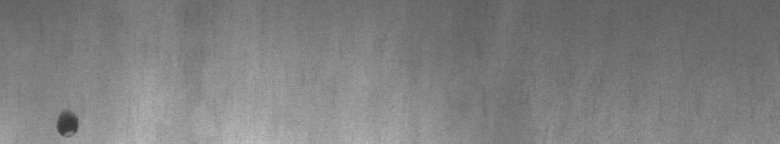fi: (51, 104, 87, 136)
